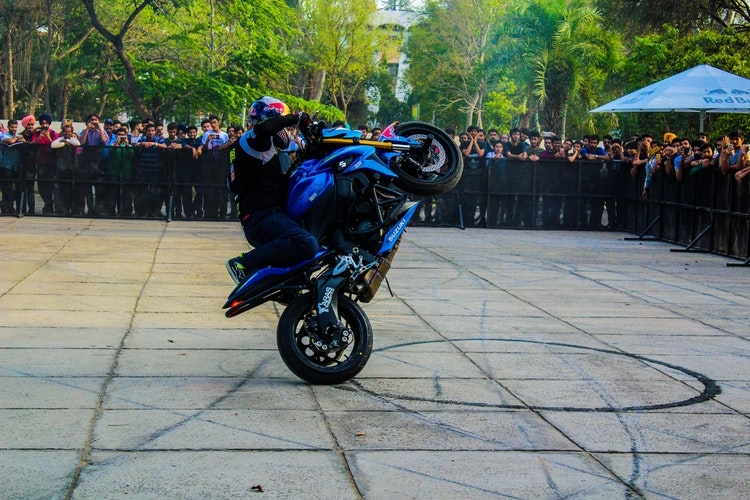helmet: (248, 90, 302, 141)
